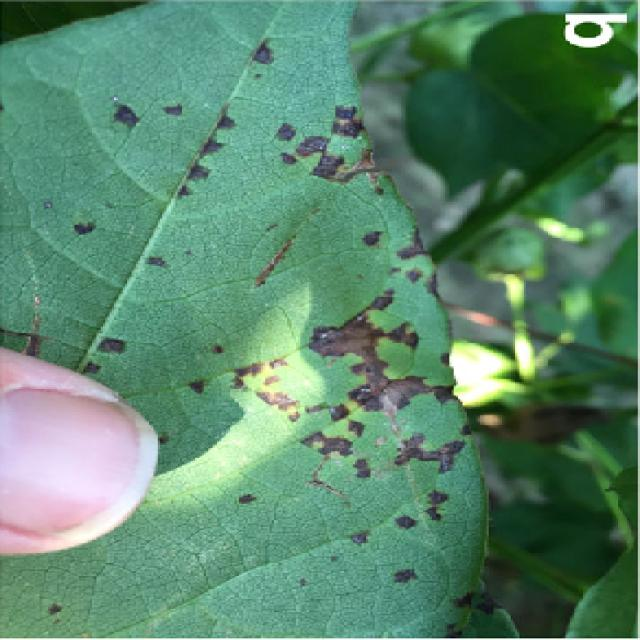Bacterial Blight: (289, 280, 417, 487)
